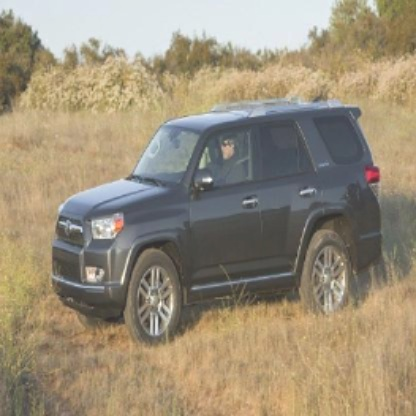Vehicle: (51, 98, 387, 351)
